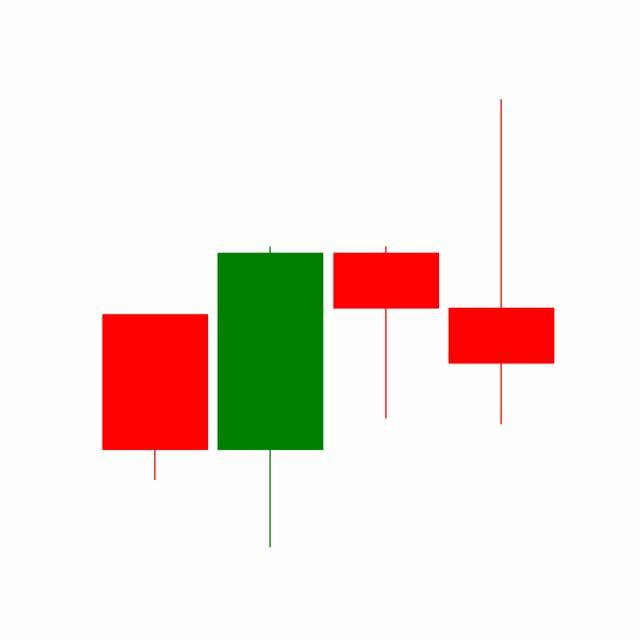Hanging Man: (329, 245, 445, 421)
